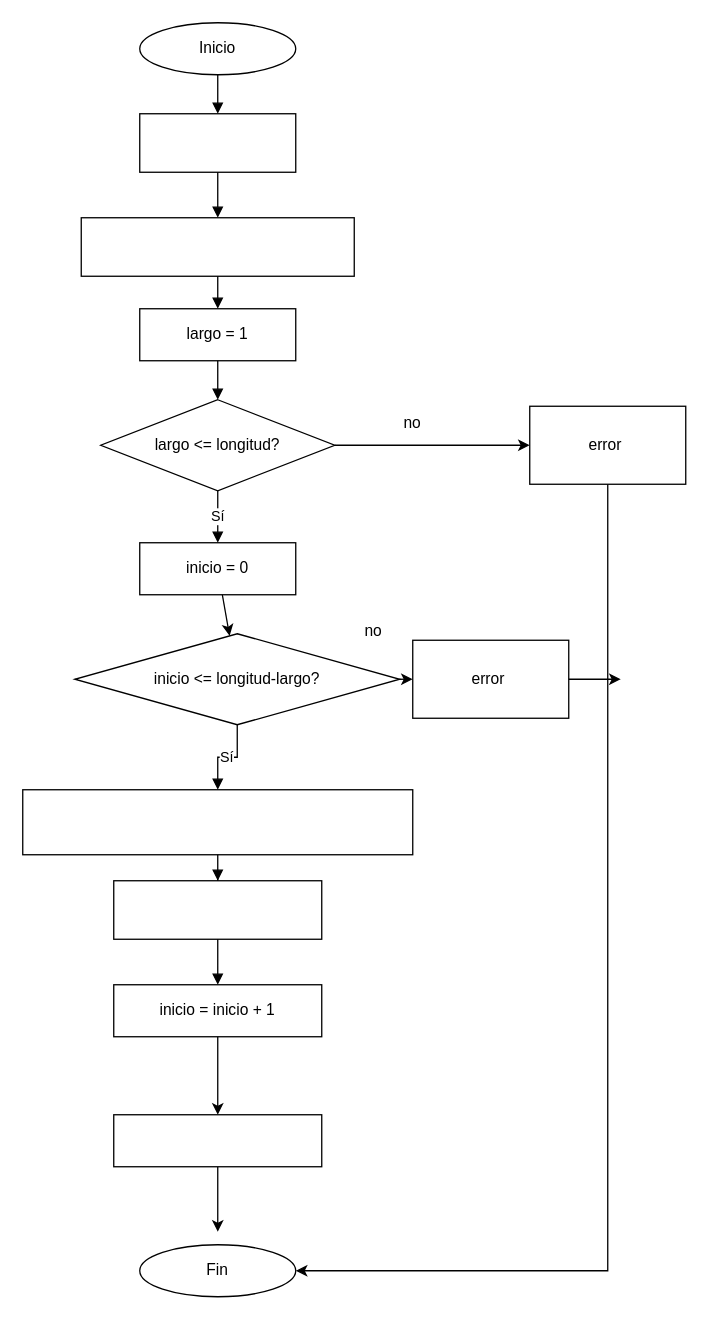
This 709x1320 diagram has some shape labels left out. The centre of each missing label's shape, as x and y in pixels:
"largo = largo + 1" belongs at pixel 217 1140.
"Leer palabra" belongs at pixel 217 142.
"longitud = palabra" belongs at pixel 217 246.
"Mostrar subcadena" belongs at pixel 217 909.
"subcadena = palabra inicio:inicio+largo" belongs at pixel 217 821.
